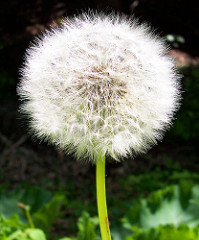dandelion: (14, 5, 191, 187)
